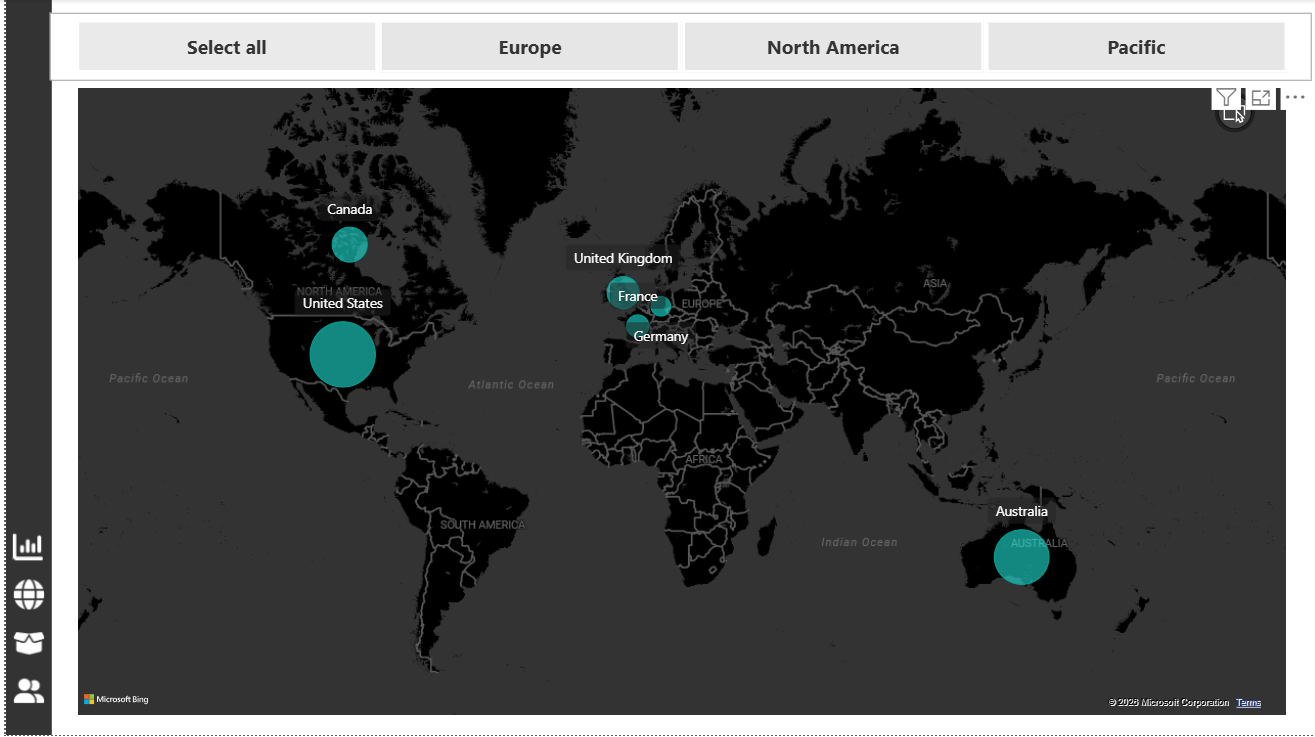

This screenshot's page, from the dashboard's own definition file:
{"tool":"powerbi","page":{"name":"Map","canvas":[1280,720],"ordinal":1},"visuals":[{"type":"shape","box":[0,0,45,720],"z":0},{"type":"actionButton","box":[2.5,516.7,45.6,37.8],"z":0,"group":"g1"},{"type":"map","fields":{"Category":["Territory Lookup.Country"],"Size":["Measure Table.Total Orders"]},"box":[65.6,82.5,1191.3,622.8],"z":1000},{"type":"actionButton","box":[3.3,563.4,45.6,37.8],"z":1000,"group":"g1"},{"type":"slicer","fields":{"Values":["Territory Lookup.Continent"]},"box":[43,13.6,1234.3,65.6],"z":2000},{"type":"actionButton","box":[3.3,611.1,45.6,37.8],"z":2000,"group":"g1"},{"type":"group","id":"g1","title":"Navigation Buttons","box":[2.5,516.7,46.4,178.9],"z":3000},{"type":"actionButton","box":[3.3,657.8,45.6,37.8],"z":3000,"group":"g1"}]}

Visuals, with their boxes in screenshot pixels (x1, y1, x2, y2):
shape: select_region(0, 0, 45, 726)
actionButton: select_region(3, 521, 49, 559)
map - Territory Lookup.Country x Measure Table.Total Orders: select_region(66, 83, 1268, 711)
actionButton: select_region(3, 568, 49, 606)
slicer - Territory Lookup.Continent: select_region(43, 14, 1288, 80)
actionButton: select_region(3, 616, 49, 654)
"Navigation Buttons" group: select_region(3, 521, 49, 701)
actionButton: select_region(3, 663, 49, 701)
